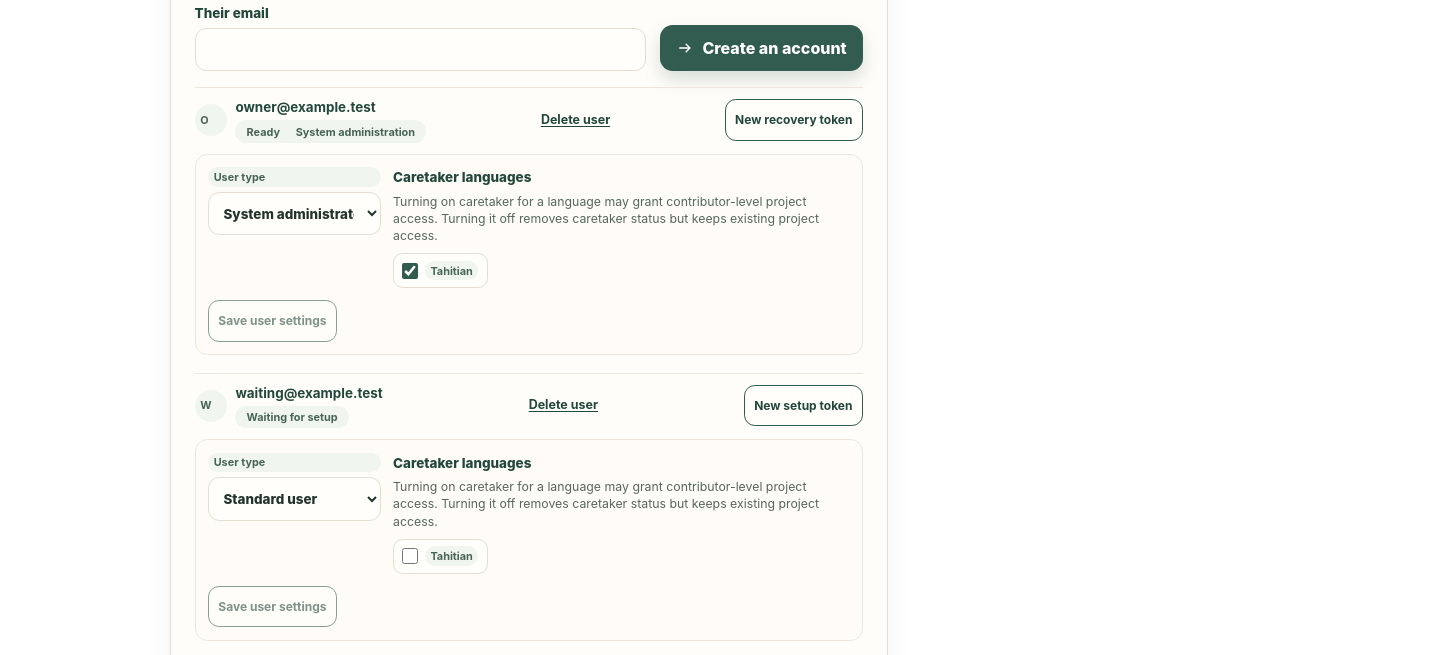
AdminAccessScreen › uses the dedicated registration-token route for a person still setting up
The width and height of the screenshot is (1440, 655).
(page scrolled)
Click the button "New setup token".
click(803, 406)  # box [744,385,863,426]
(page scrolled)
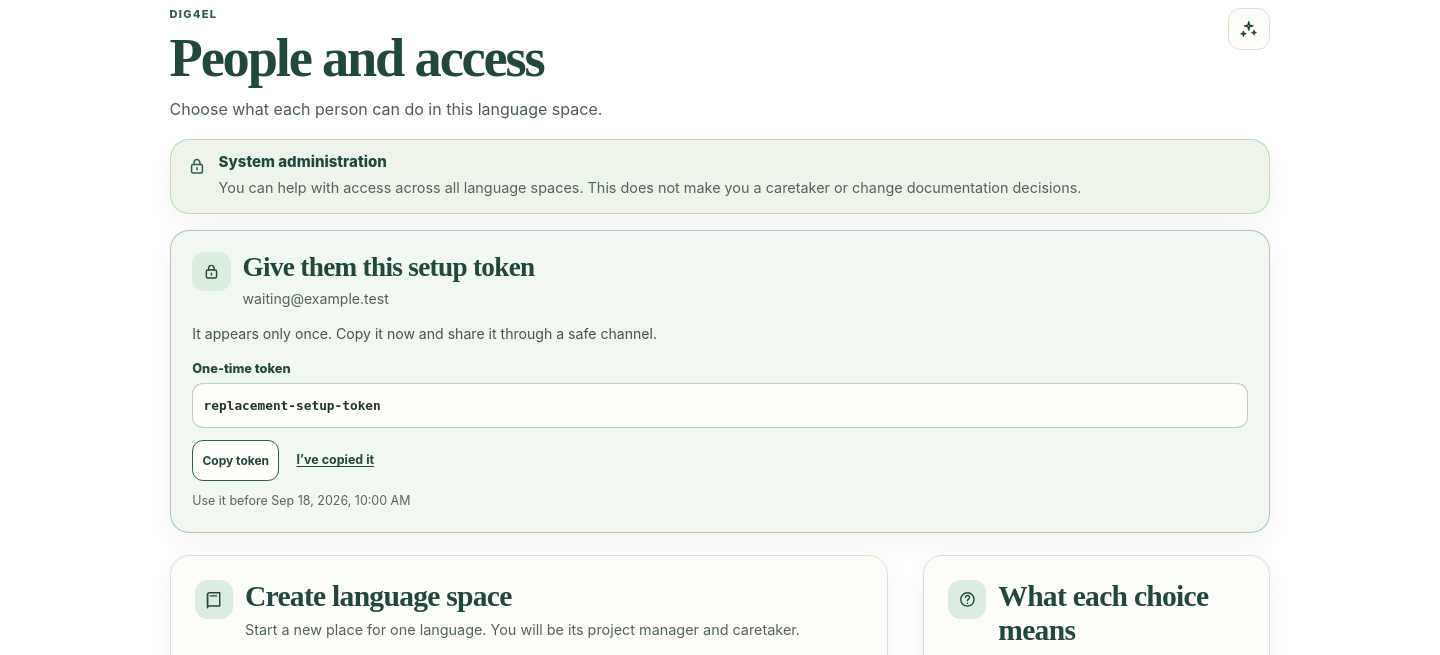
Expected: the heading "Give them this setup token" is shown, [243,252,535,283]
Expected: the field labelled "One-time token" holds "replacement-setup-token", [192,383,1248,428]
